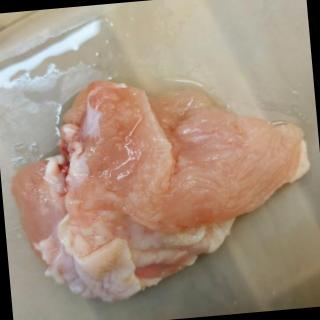Ayam: (4, 63, 320, 311)
